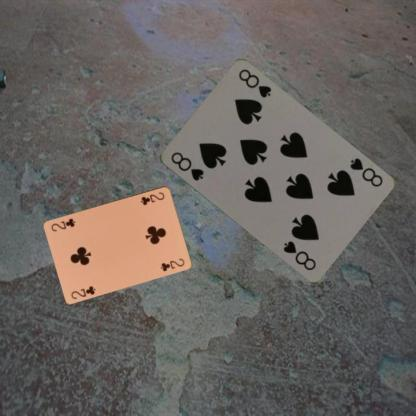2c: (138, 189, 166, 206), (69, 283, 97, 300)
8s: (347, 155, 384, 189), (168, 149, 204, 183)
